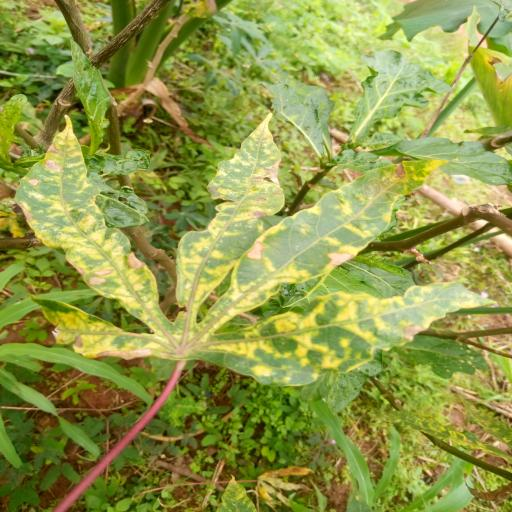Cassava_Mosaic: (15, 99, 493, 391)
